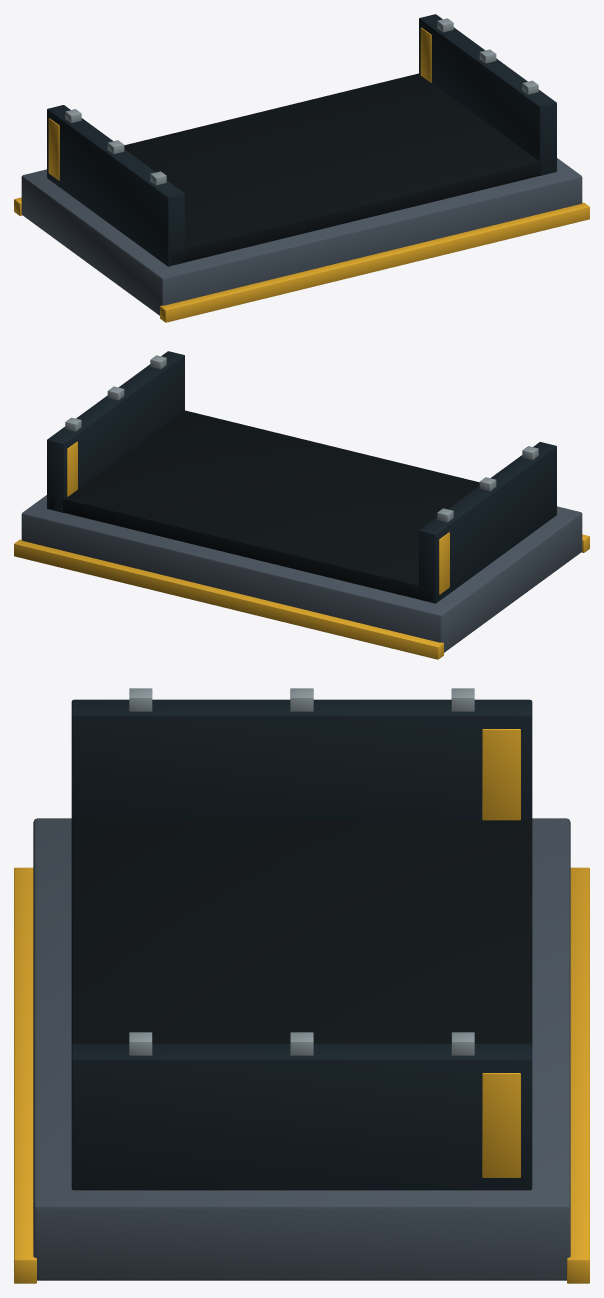
Rendered from coil_car.glb.
3 views of the same model, one above another, from view 1: azimuth 30°, elevation 25°; view 2: azimuth 150°, elevation 25°; view 3: azimuth 270°, elevation 25° (orthographic). The views are drawn at different scales.
Parts seen in each view (by area): view 1: Asset_coil_car; view 2: Asset_coil_car; view 3: Asset_coil_car.
Part boxes in pixels (box(x1,y1,x2,y2)): Asset_coil_car: box(14, 14, 589, 322); Asset_coil_car: box(14, 351, 589, 659); Asset_coil_car: box(14, 688, 589, 1283).
Bounding box in the file's own units: 2.42 × 0.64 × 1.5.
